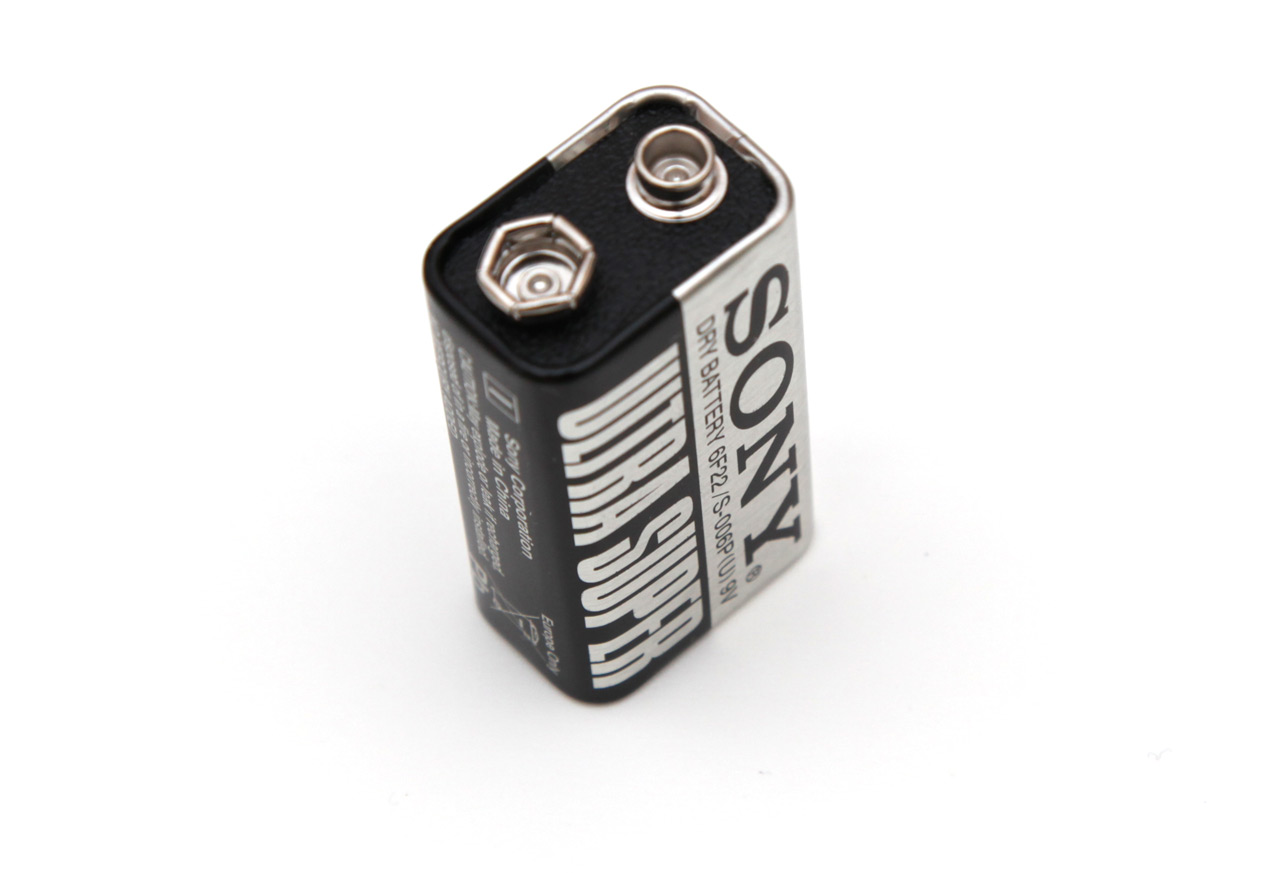9V: (413, 73, 844, 705)
